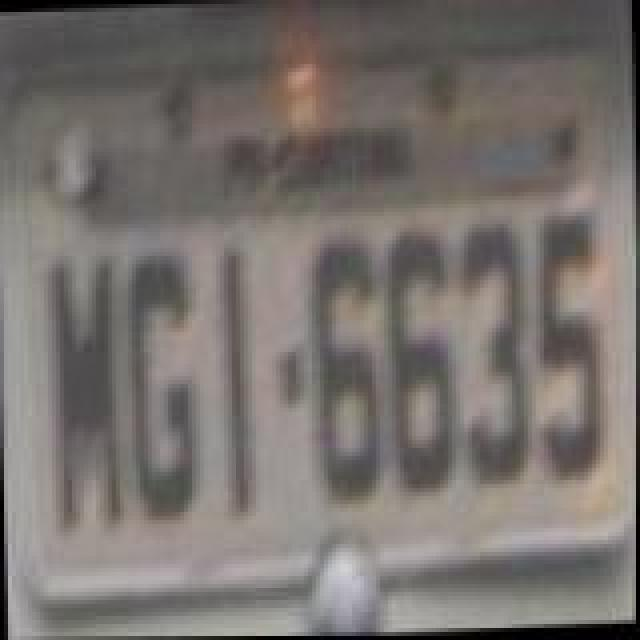1: (224, 250, 248, 518)
3: (460, 220, 532, 492)
5: (534, 212, 602, 480)
6: (384, 224, 456, 496), (308, 238, 380, 506)
G: (124, 252, 196, 524)
M: (52, 252, 124, 536)
